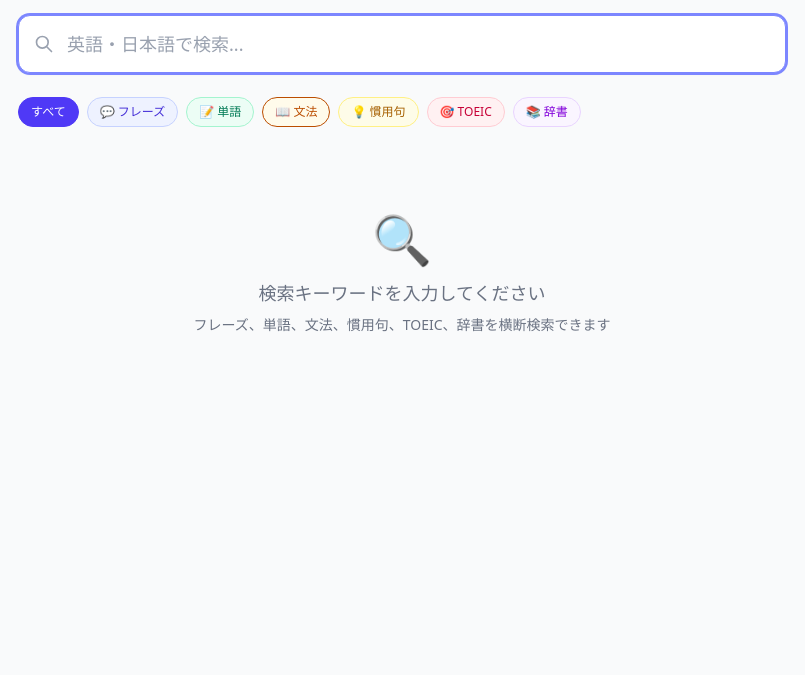
Test: SearchPage › reflects expanded result groups with aria-expanded
Type "you" into the field named "コンテンツを検索" at (402, 44), box x1=18 y1=15 x2=786 y2=73
(page scrolled)
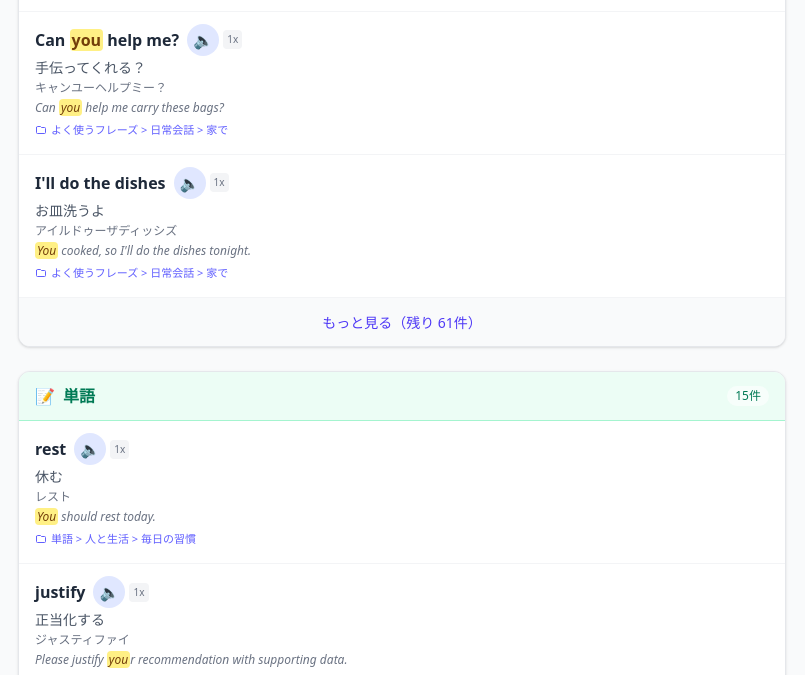
Click the button "もっと見る（残り 61件）" at (402, 323), box x1=35 y1=313 x2=769 y2=333
(page scrolled)
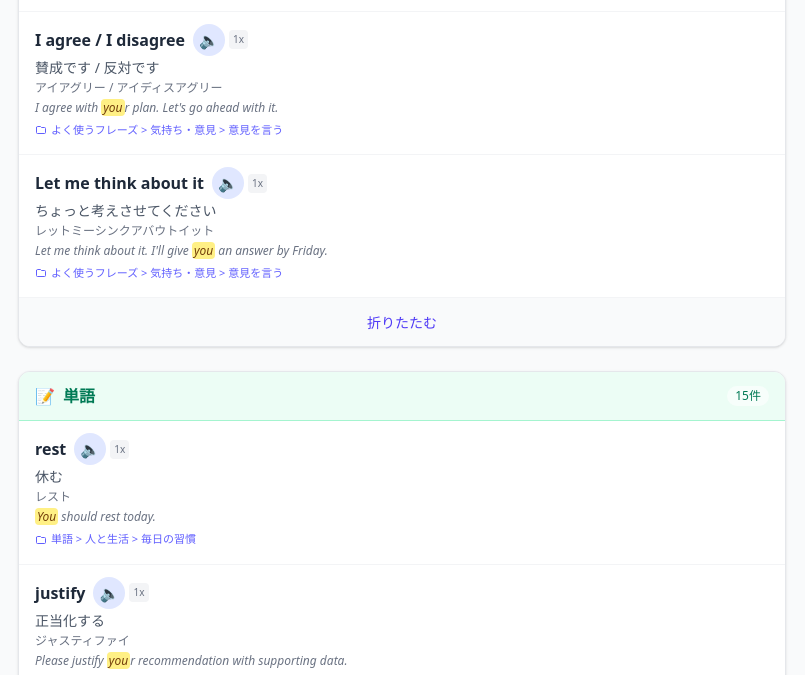
Expected: the button named "もっと見る" is expanded
Expected: the button named "もっと見る" reads "折りたたむ"
Click the button named "もっと見る" at (402, 323), box x1=35 y1=313 x2=769 y2=333
(page scrolled)
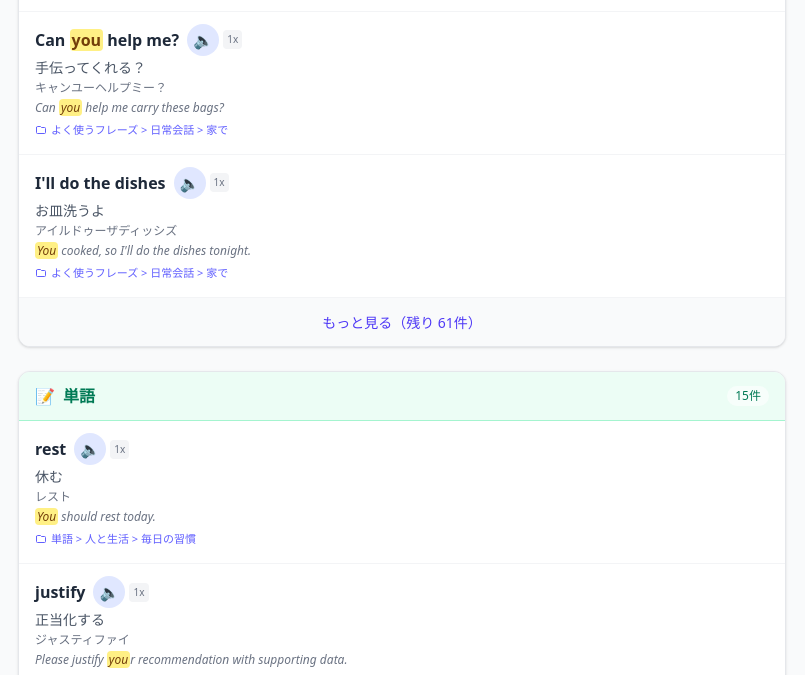
Expected: the button "もっと見る（残り 61件）" is collapsed, x1=35 y1=313 x2=769 y2=333
